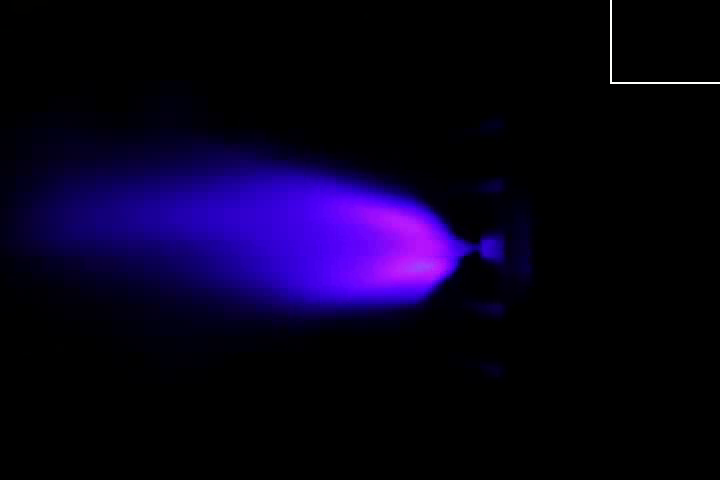burner cap: (477, 230, 508, 263)
unstable: (329, 170, 483, 318)
